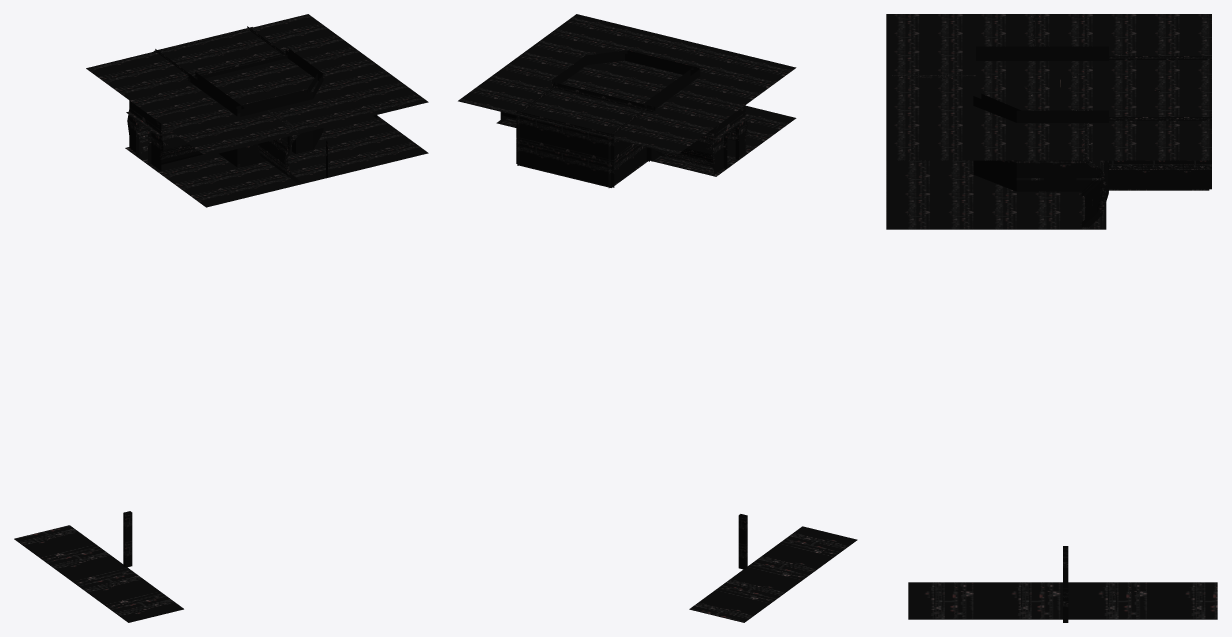
The model's file is room966_opt.obj.
3 views of the same model, side by side, from view 1: azimuth 30°, elevation 25°; view 2: azimuth 150°, elevation 25°; view 3: azimuth 270°, elevation 25° (orthographic). The views are drawn at different scales.
Bounding box in the file's own units: 2688 × 4064 × 1952.
